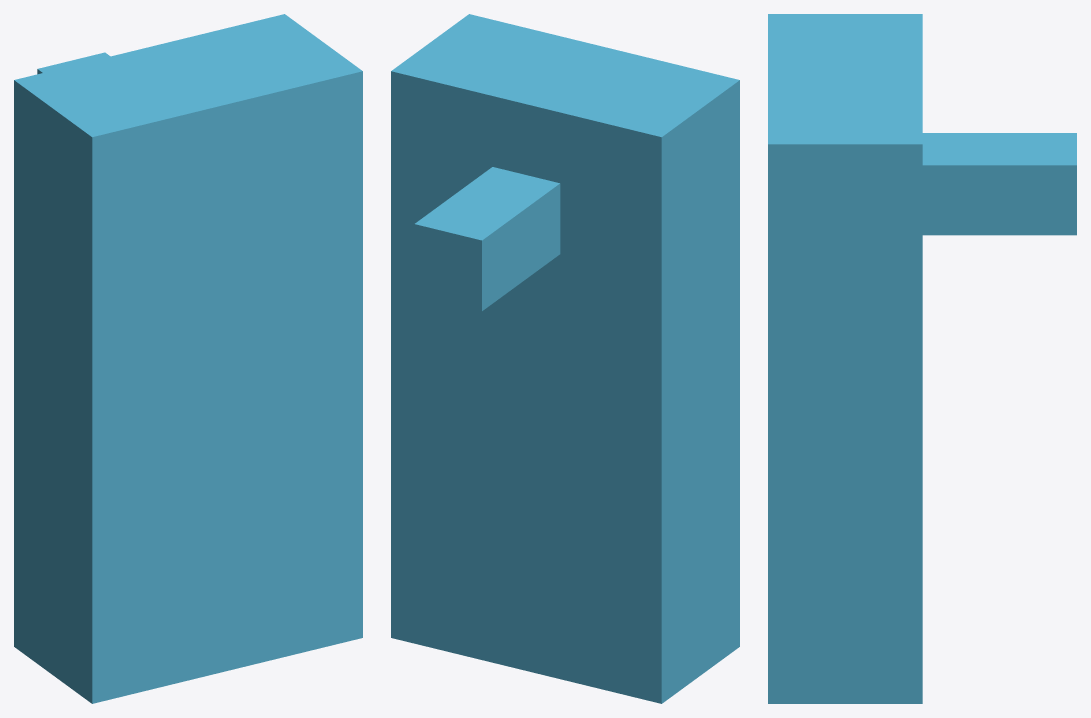
Rendered from TEST_C0_MetreMesh.fbx.
3 renders of one model, left to right at view 1: azimuth 30°, elevation 25°; view 2: azimuth 150°, elevation 25°; view 3: azimuth 270°, elevation 25°, orthographic.
Parts seen in each view (by area): view 1: TEST_C0_MetreMesh; view 2: TEST_C0_MetreMesh; view 3: TEST_C0_MetreMesh.
Part boxes in pixels (x1,y1,x2,y2): TEST_C0_MetreMesh: (14, 14, 362, 703); TEST_C0_MetreMesh: (391, 14, 739, 703); TEST_C0_MetreMesh: (768, 14, 1076, 703).
Bounding box in the file's own units: 1 × 2 × 1.
